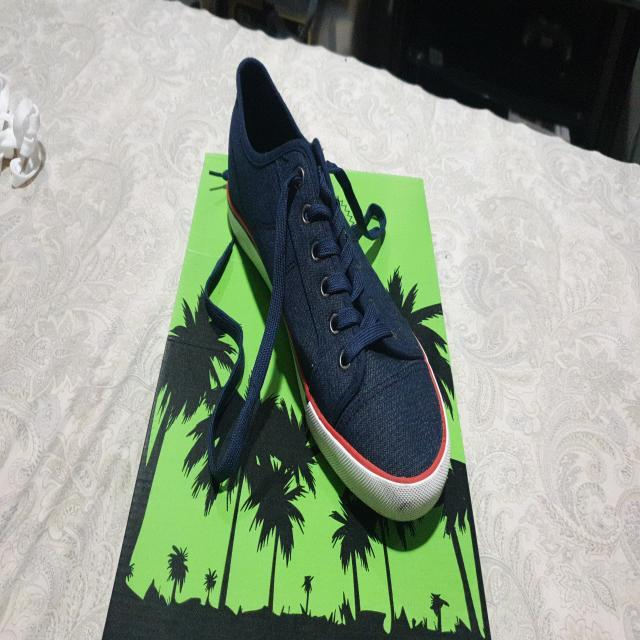shoe: (225, 54, 450, 525)
